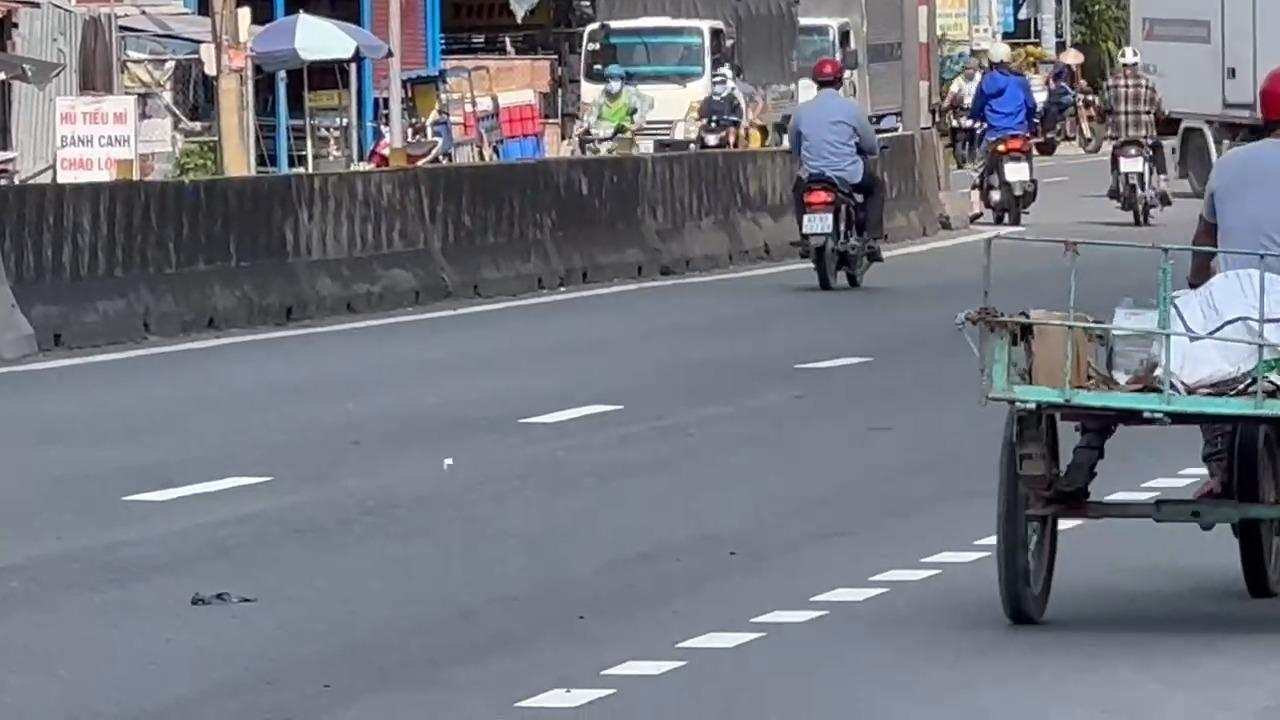bien_so: (800, 211, 833, 234)
